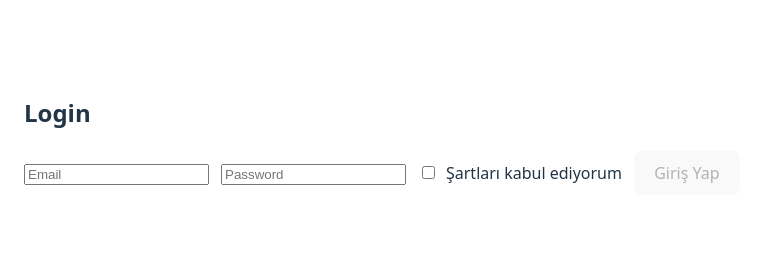
Login Form E2E › Başarılı form doldurulunca success sayfasına gider
Type "test@example.com" into the field with test id "email-input".
click(117, 175); type("test@example.com")  # box [24,164,209,185]
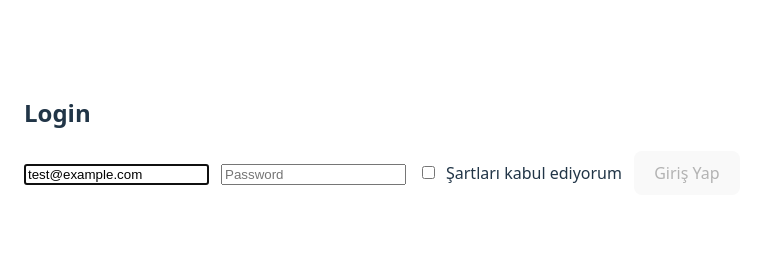
Type "StrongPass1" into the password field with test id "password-input".
click(314, 175); type("StrongPass1")  # box [221,164,406,185]
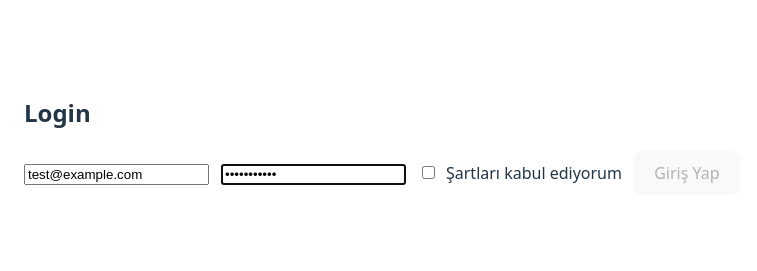
Check the checkbox with test id "terms-checkbox".
click(429, 173)  # box [422,166,435,179]
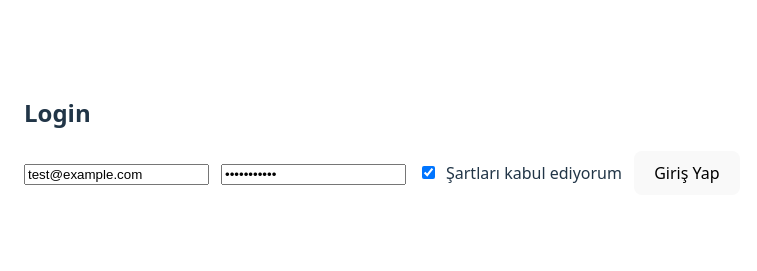
Expected: the element with test id "login-button" is enabled
Click the button with test id "login-button".
click(687, 173)  # box [634,151,740,194]
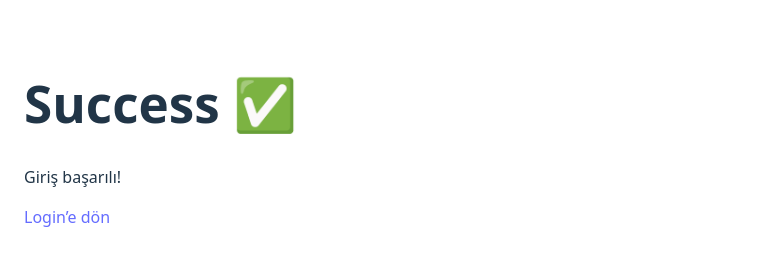
Now the element with test id "success-page" is shown, box [0,17,321,254]
